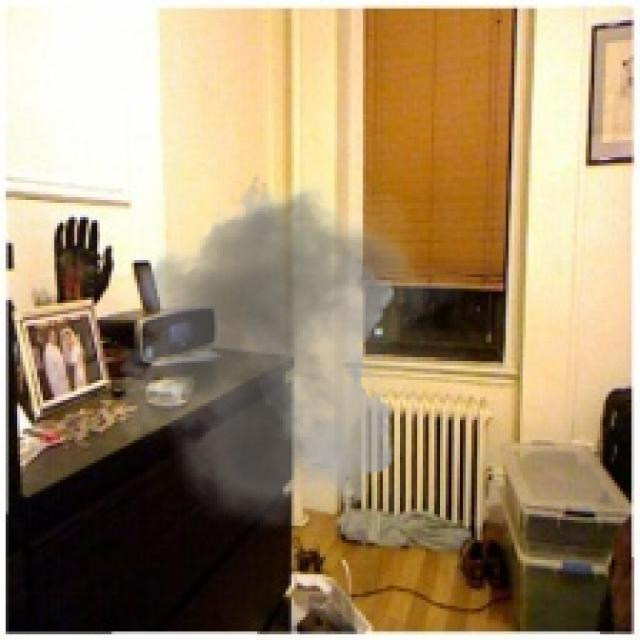Smoke: (100, 162, 469, 528)
